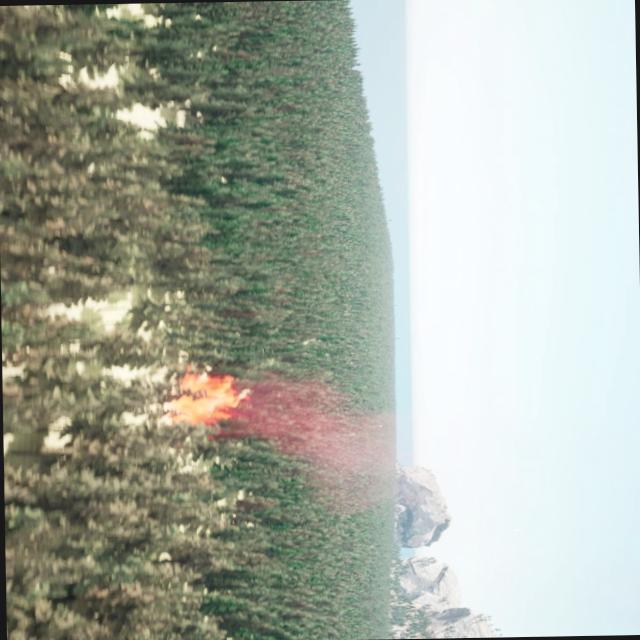smoke: (246, 369, 399, 518), (170, 365, 248, 427)
